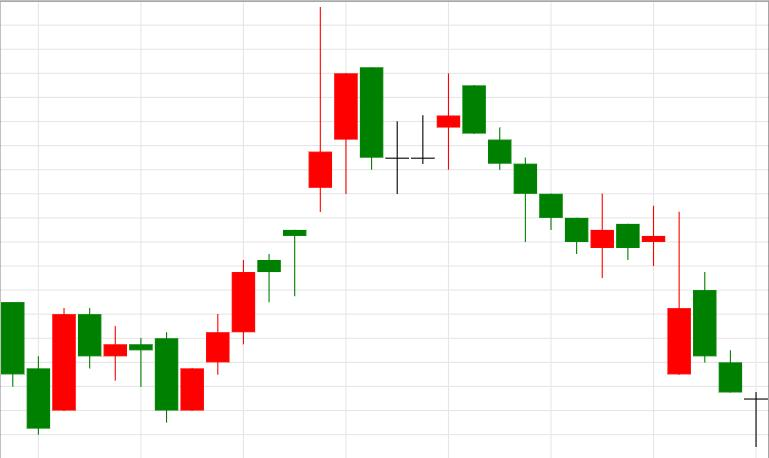shooting_star_fall: (181, 6, 332, 412)
